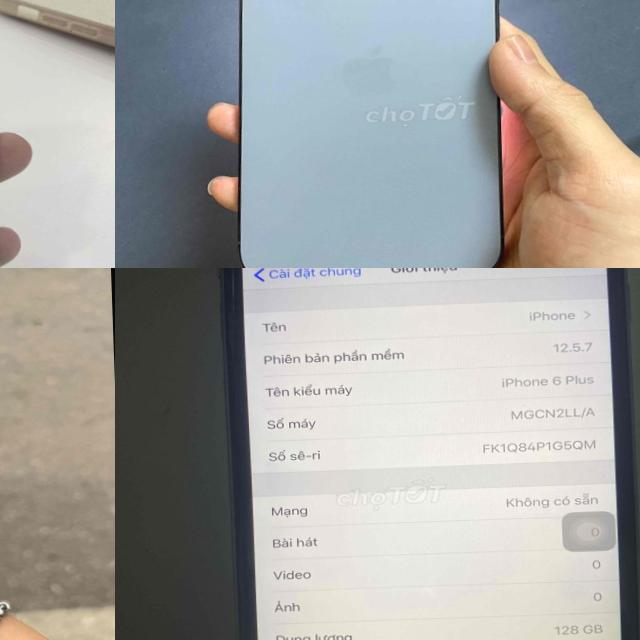gen_12_13: (220, 0, 529, 268)
gen_6: (208, 268, 640, 640)
